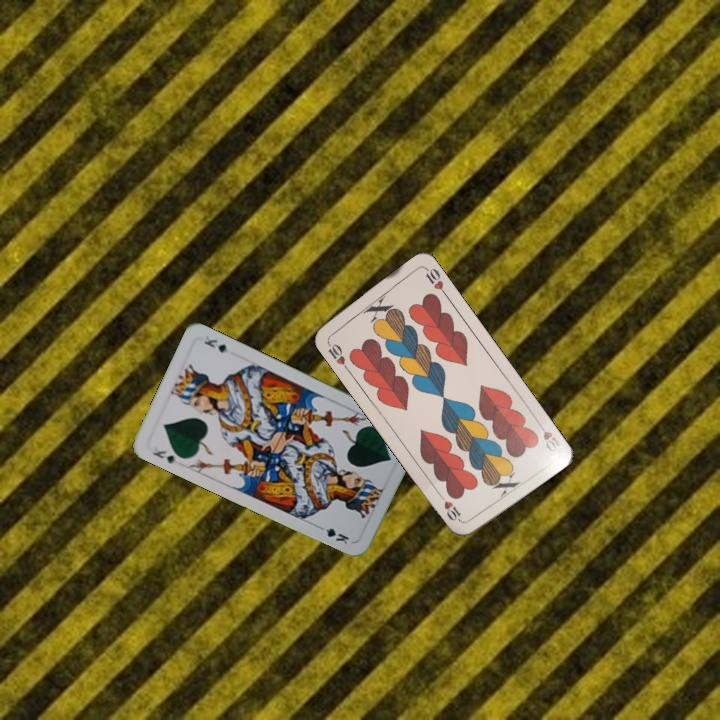GK: (148, 446, 184, 467)
H10: (533, 417, 565, 454), (323, 336, 348, 367)
